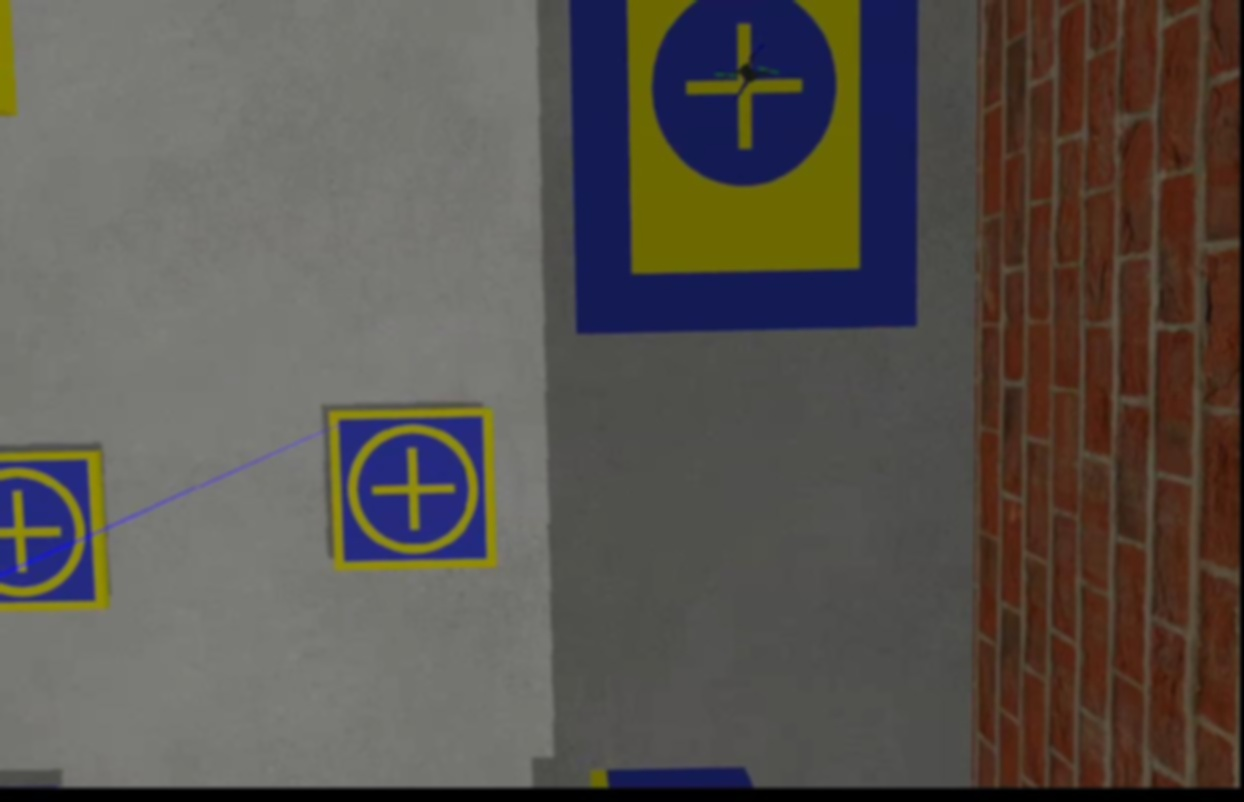large_base: (568, 1, 921, 335)
small_base: (320, 409, 500, 573), (0, 453, 108, 616)
